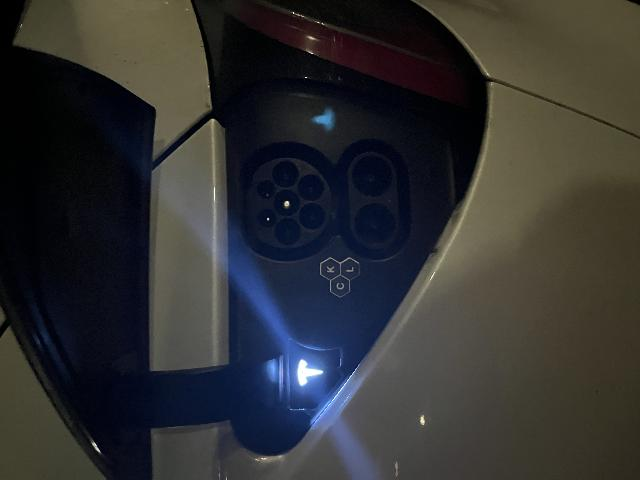inlet: (231, 253, 322, 332)
inlet-above-left: (251, 257, 272, 276)
inlet-above-right: (279, 256, 299, 275)
inlet-below-left: (249, 298, 277, 325)
inlet-below-right: (279, 297, 306, 324)
inlet-circle: (263, 273, 290, 300)
inlet-circle-left: (234, 274, 261, 300)
inlet-circle-right: (292, 271, 320, 299)
inlet-minus: (282, 352, 324, 392)
inlet-plus: (237, 354, 277, 396)
